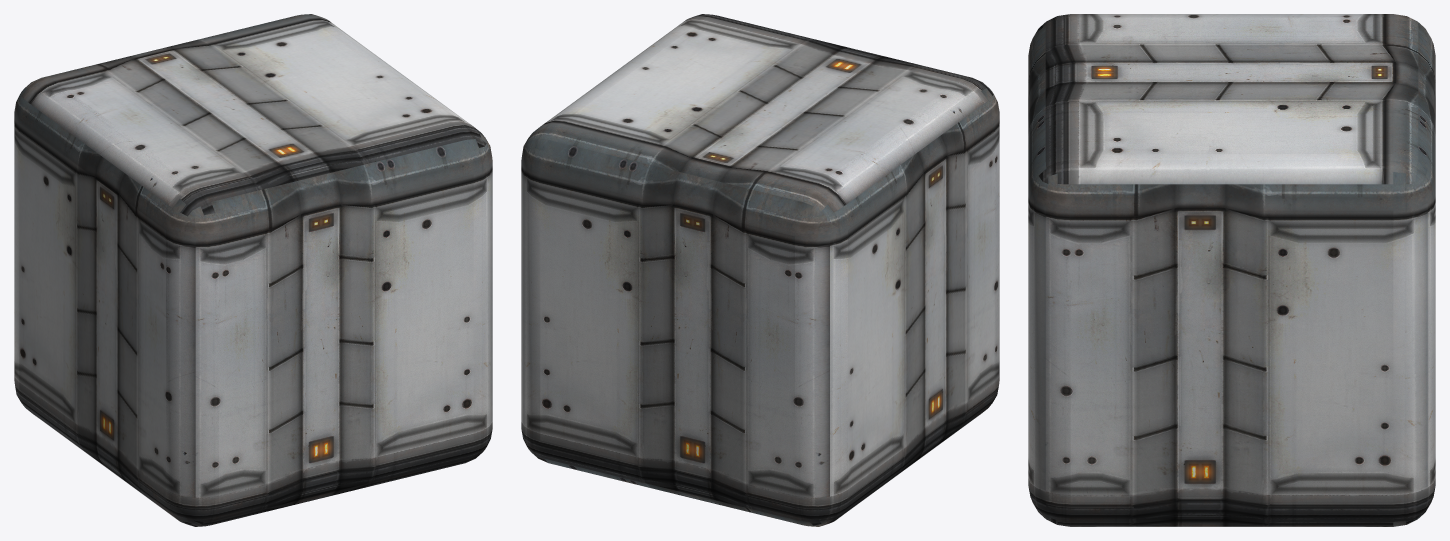
File: roundcube.glb
The picture shows the model from 3 angles, left to right: view 1: azimuth 30°, elevation 25°; view 2: azimuth 150°, elevation 25°; view 3: azimuth 270°, elevation 25°; orthographic projection. The views are drawn at different scales.
Visible parts, largest first — view 1: Cube; view 2: Cube; view 3: Cube.
Part boxes in pixels (x1,y1,x2,y2): Cube: (14,14,492,526); Cube: (521,14,999,526); Cube: (1028,14,1435,526).
Size of the model in its own units: 1.12 by 1.12 by 1.12.
1 material, 1 textured.
